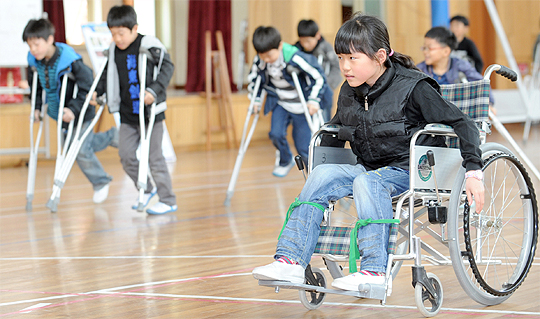crutches: (49, 5, 178, 216), (222, 25, 317, 204), (23, 18, 112, 207)
wheelchair: (252, 13, 538, 316)
